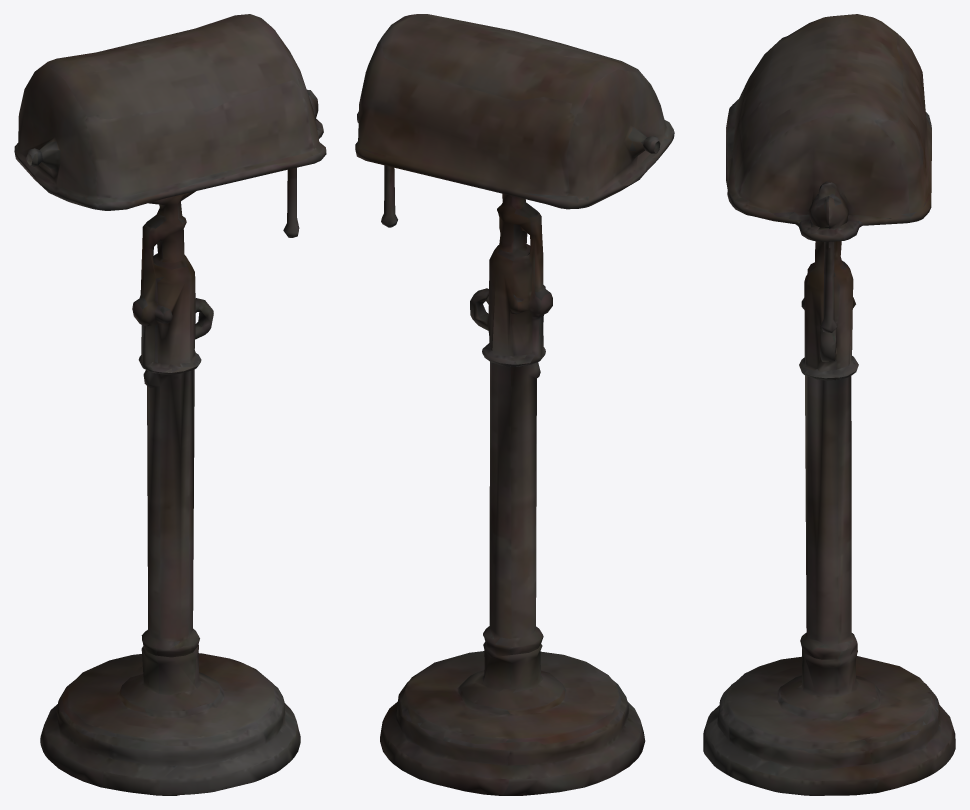
The model's file is plain-iron-operating-table-v003.glb.
3 views of the same model, side by side, from view 1: azimuth 30°, elevation 25°; view 2: azimuth 150°, elevation 25°; view 3: azimuth 270°, elevation 25° (orthographic). The views are drawn at different scales.
Parts seen in each view (by area): view 1: plain-iron-operating-table; view 2: plain-iron-operating-table; view 3: plain-iron-operating-table.
Part boxes in pixels (x1=…): plain-iron-operating-table: x1=14, y1=14, x2=326, y2=795; plain-iron-operating-table: x1=355, y1=14, x2=674, y2=795; plain-iron-operating-table: x1=703, y1=14, x2=955, y2=795.
Bounding box in the file's own units: 0.3492 × 0.7989 × 0.2669.
Materials: 1 (1 with a texture image).
